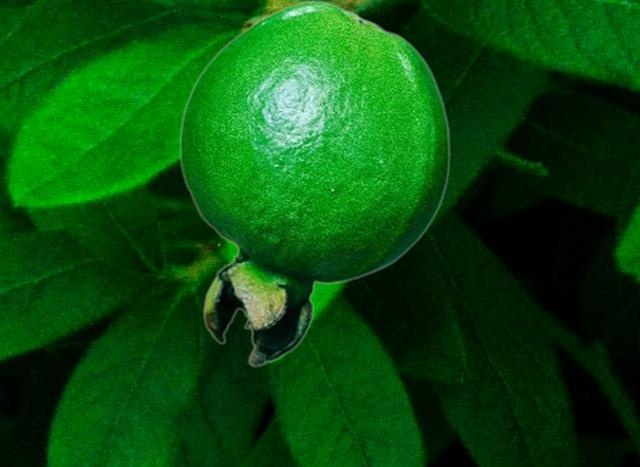guava: (178, 0, 450, 366)
